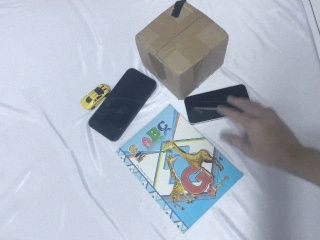book: (119, 103, 244, 230)
box: (136, 1, 228, 99)
phone: (88, 67, 157, 142), (184, 84, 250, 125)
toy_car: (81, 83, 110, 110)
